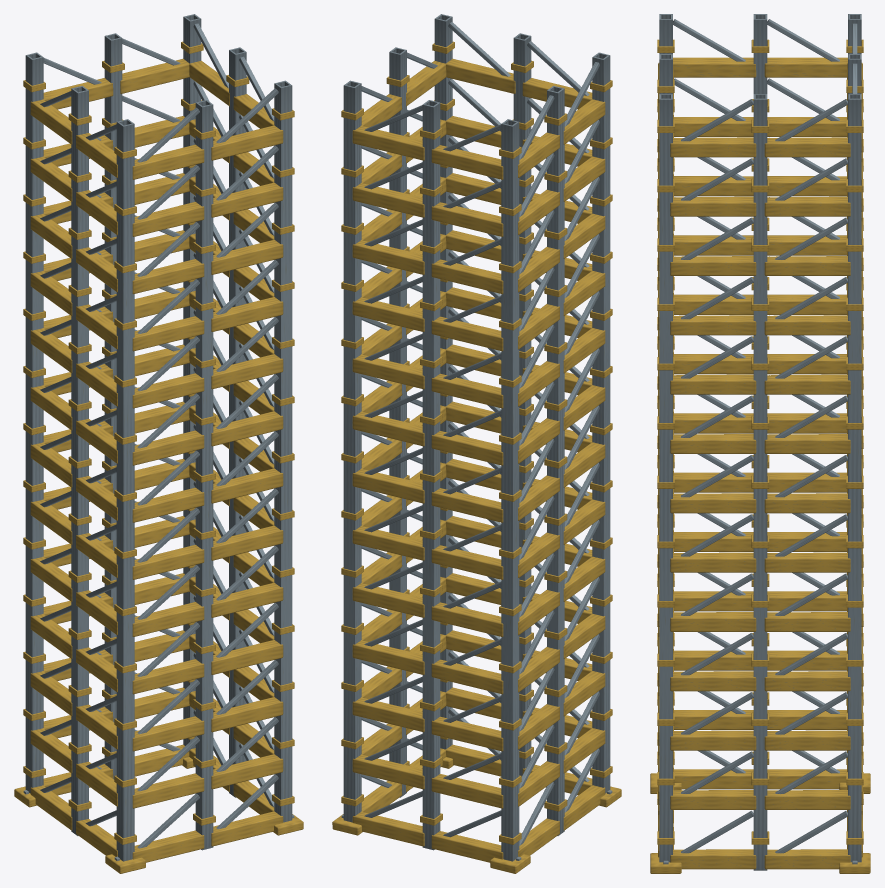
3 renders of one model, left to right at view 1: azimuth 30°, elevation 25°; view 2: azimuth 150°, elevation 25°; view 3: azimuth 270°, elevation 25°, orthographic. The views are drawn at different scales.
Visible parts, largest first — view 1: Tier 0 side 0 post 0, Tier 0 side 1 post 0, Tier 0 side 0 post 1, Tier 0 side 3 post 0, Tier 0 side 3 post 1, Tier 0 side 1 post 1, Tier 0 side 2 post 1, Tier 0 side 2 post 0, Tier 0 bay 0-3-0 service deck, Tier 0 bay 0-9-0 service deck, Tier 0 bay 0-11-0 service deck, Tier 0 bay 0-2-0 service deck (+76 smaller); view 2: Tier 0 side 3 post 0, Tier 0 side 2 post 0, Tier 0 side 2 post 1, Tier 0 side 0 post 0, Tier 0 side 3 post 1, Tier 0 side 1 post 1, Tier 0 side 0 post 1, Tier 0 side 1 post 0, Tier 0 bay 2-3-1 service deck, Tier 0 bay 2-9-1 service deck, Tier 0 bay 2-11-1 service deck, Tier 0 bay 2-4-1 service deck (+76 smaller); view 3: Tier 0 side 1 post 1, Tier 0 side 1 post 0, Tier 0 side 2 post 0, Tier 0 bay 1-6-1 service deck, Tier 0 bay 1-3-0 service deck, Tier 0 bay 1-3-1 service deck, Tier 0 bay 1-6-0 service deck, Tier 0 bay 1-9-0 service deck, Tier 0 bay 1-9-1 service deck, Tier 0 bay 1-12-0 service deck, Tier 0 bay 1-12-1 service deck, Tier 0 bay 1-2-0 service deck (+78 smaller).
Part boxes in pixels (box(x1,y1,x2,y2)): Tier 0 side 0 post 0: box(116, 119, 134, 861); Tier 0 side 1 post 0: box(274, 80, 292, 822); Tier 0 side 0 post 1: box(195, 100, 213, 850); Tier 0 side 3 post 0: box(25, 52, 43, 793); Tier 0 side 3 post 1: box(71, 86, 88, 835); Tier 0 side 1 post 1: box(229, 47, 246, 797); Tier 0 side 2 post 1: box(104, 33, 122, 779); Tier 0 side 2 post 0: box(183, 14, 201, 748); Tier 0 bay 0-3-0 service deck: box(132, 659, 204, 694); Tier 0 bay 0-9-0 service deck: box(132, 316, 204, 351); Tier 0 bay 0-11-0 service deck: box(132, 201, 204, 236); Tier 0 bay 0-2-0 service deck: box(132, 716, 204, 751); Tier 0 side 3 post 0: box(501, 119, 519, 861); Tier 0 side 2 post 0: box(343, 80, 361, 822); Tier 0 side 2 post 1: box(422, 100, 440, 850); Tier 0 side 0 post 0: box(592, 52, 610, 793); Tier 0 side 3 post 1: box(547, 86, 564, 835); Tier 0 side 1 post 1: box(389, 47, 406, 797); Tier 0 side 0 post 1: box(513, 33, 531, 776); Tier 0 side 1 post 0: box(434, 14, 452, 749); Tier 0 bay 2-3-1 service deck: box(431, 659, 503, 694); Tier 0 bay 2-9-1 service deck: box(431, 316, 503, 351); Tier 0 bay 2-11-1 service deck: box(431, 202, 503, 236); Tier 0 bay 2-4-1 service deck: box(431, 602, 503, 636); Tier 0 side 1 post 1: box(753, 94, 767, 870); Tier 0 side 1 post 0: box(659, 94, 672, 862); Tier 0 side 2 post 0: box(848, 94, 861, 862); Tier 0 bay 1-6-1 service deck: box(764, 493, 850, 513); Tier 0 bay 1-3-0 service deck: box(670, 671, 756, 691); Tier 0 bay 1-3-1 service deck: box(764, 671, 850, 691); Tier 0 bay 1-6-0 service deck: box(670, 493, 756, 513); Tier 0 bay 1-9-0 service deck: box(670, 315, 756, 335); Tier 0 bay 1-9-1 service deck: box(764, 315, 850, 335); Tier 0 bay 1-12-0 service deck: box(670, 137, 756, 157); Tier 0 bay 1-12-1 service deck: box(764, 137, 850, 157); Tier 0 bay 1-2-0 service deck: box(670, 730, 756, 750).
Size of the model in its own units: 1.05 by 4.05 by 1.05.
Materials: 2 (2 with a texture image).
